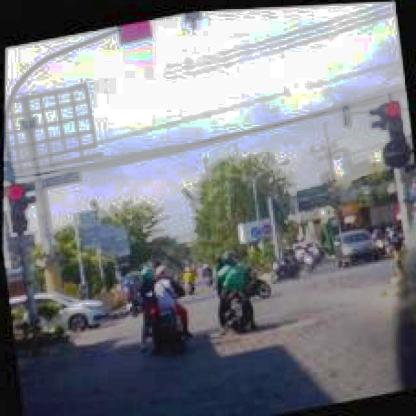Traffic Light -Red-: (3, 180, 30, 231), (382, 100, 406, 153)
